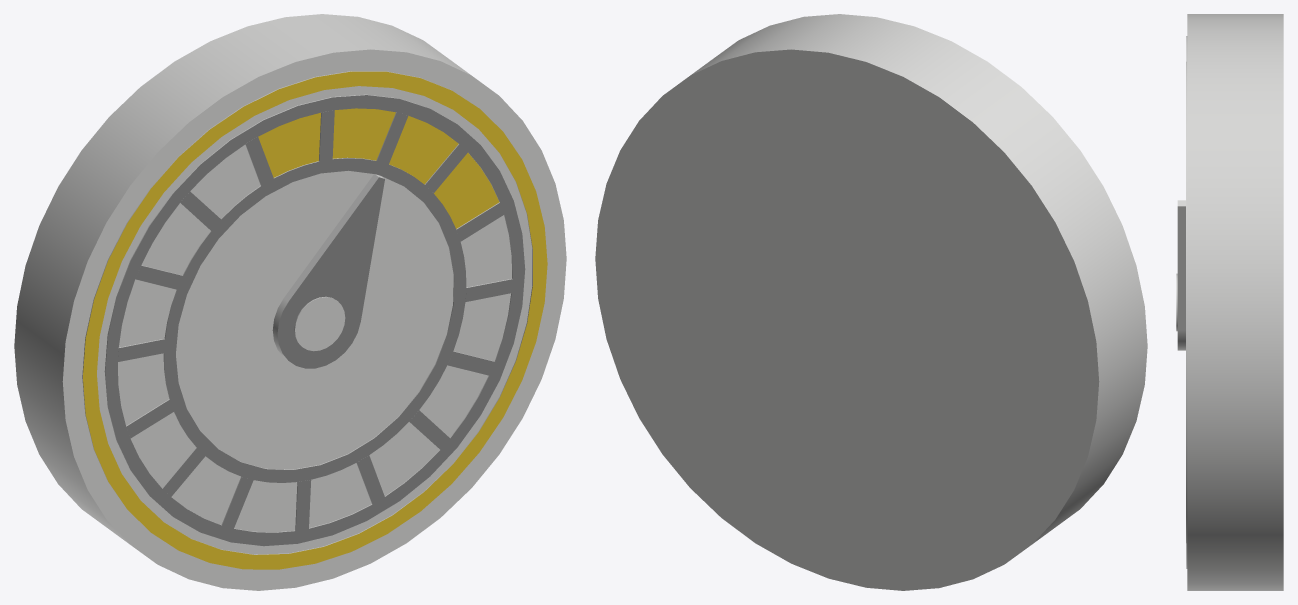
Rendered from predkosciomierz_blend2.fbx.
3 views of the same model, side by side, from view 1: azimuth 30°, elevation 25°; view 2: azimuth 150°, elevation 25°; view 3: azimuth 270°, elevation 25° (orthographic).
Visible parts, largest first — view 1: predkosciomierz v1; view 2: predkosciomierz v1; view 3: predkosciomierz v1.
Part boxes in pixels (box(x1,y1,x2,y2)): predkosciomierz v1: box(14, 14, 566, 590); predkosciomierz v1: box(595, 14, 1147, 590); predkosciomierz v1: box(1176, 14, 1283, 590).
Bounding box in the file's own units: 600 × 598 × 111.
